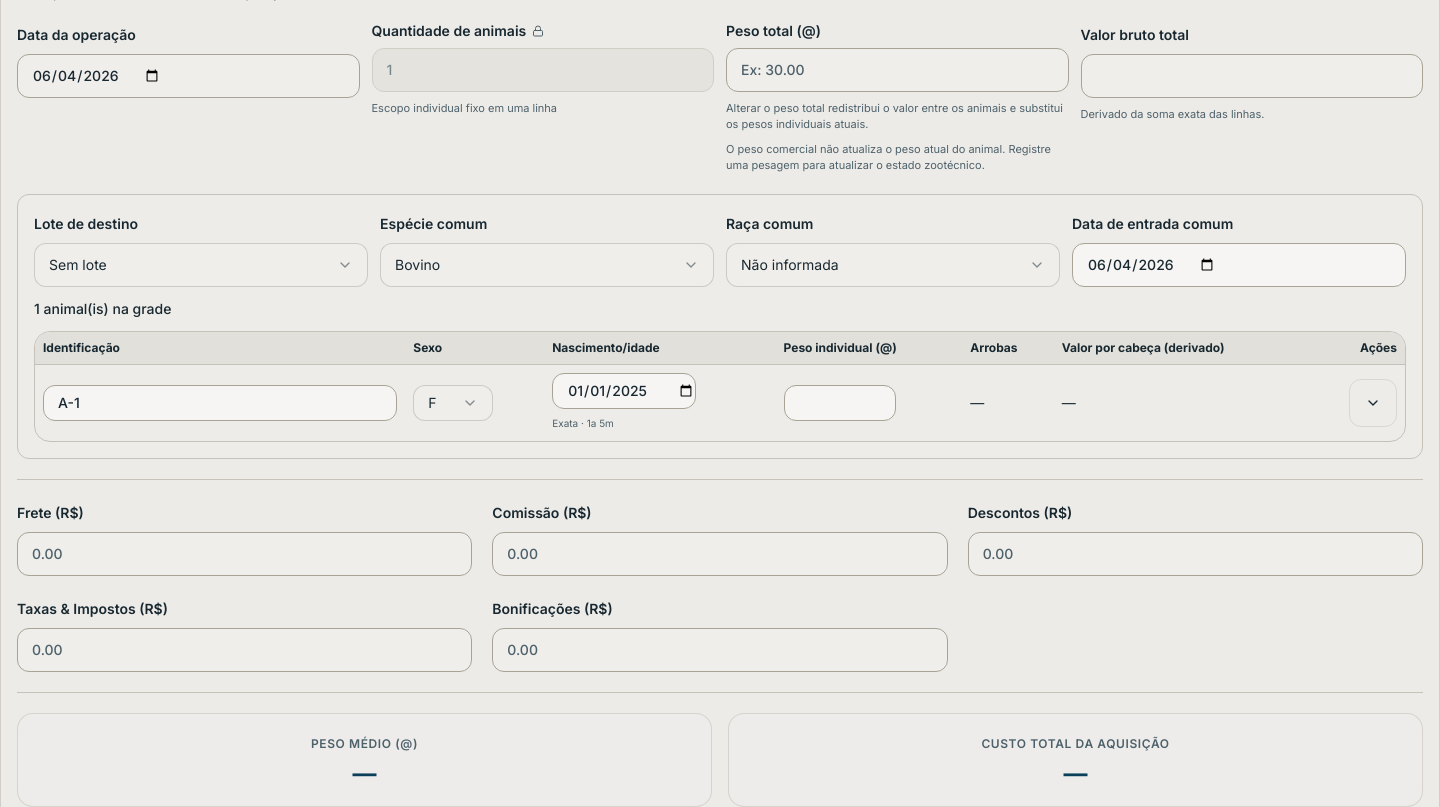
RegistrarComercialSection › aceita peso direto em arroba sem rendimento
(page scrolled)
Check: the number field named "Peso total (@)" is enabled, box x1=726 y1=48 x2=1068 y2=92
Type "18" into the number field named "Peso animal 1" at point(840, 402), box x1=784 y1=384 x2=896 y2=420
(page scrolled)
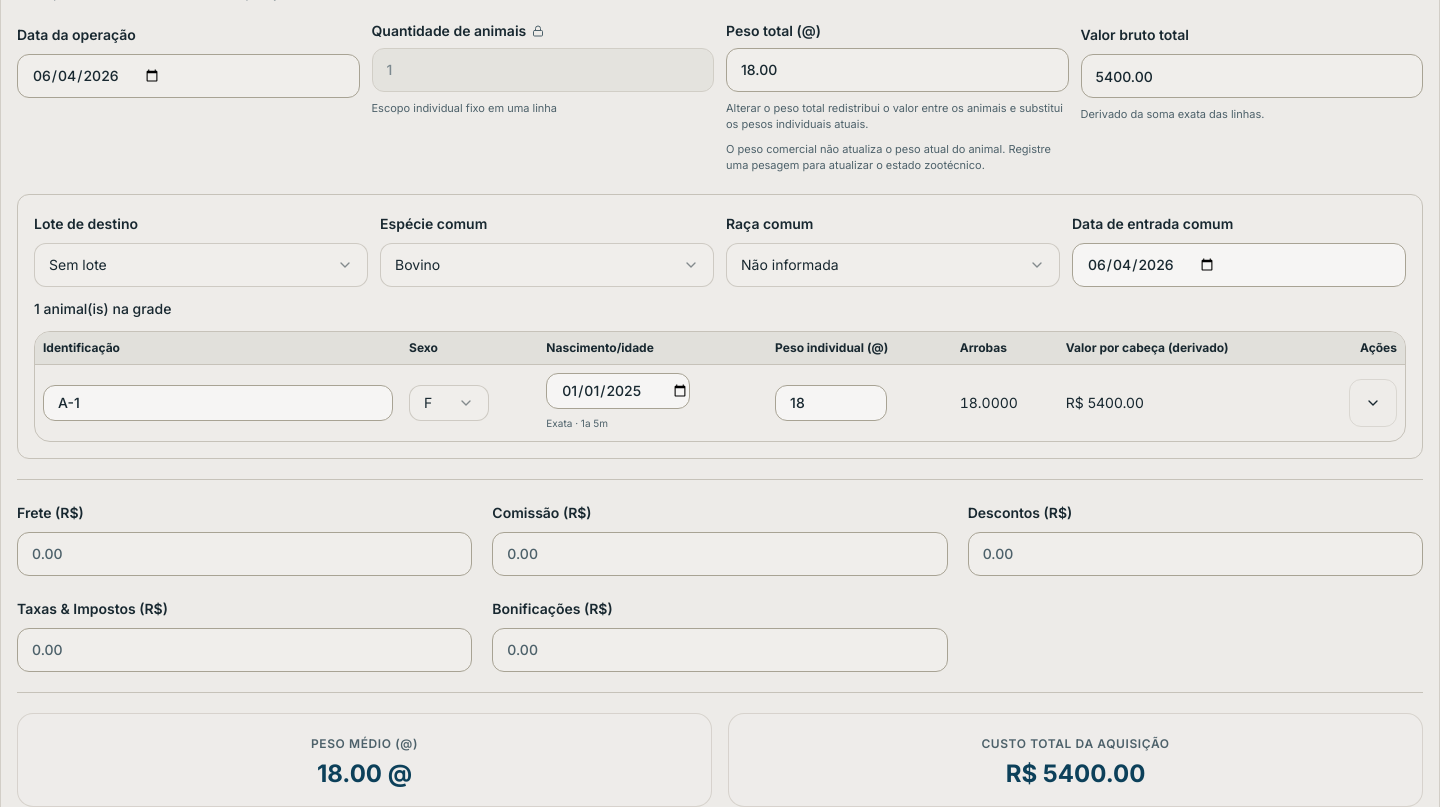
Check: the text "R$ 5400.00" is shown 2 times, box x1=1066 y1=394 x2=1144 y2=410; x1=1006 y1=758 x2=1145 y2=788
